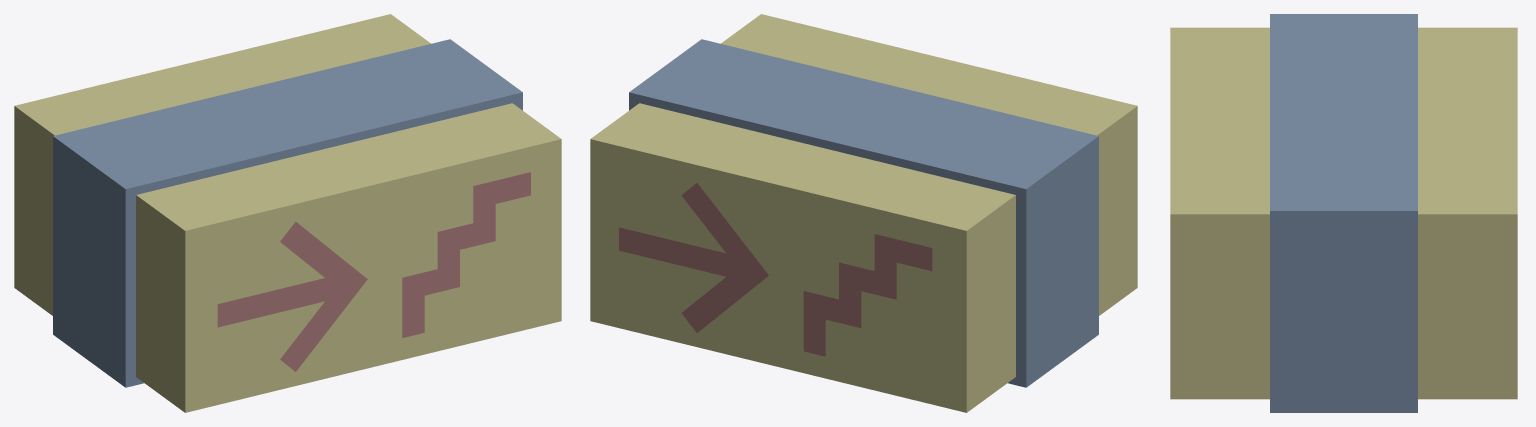
The model's file is SM_DoorLight_Stairs_00.fbx.
3 renders of one model, left to right at view 1: azimuth 30°, elevation 25°; view 2: azimuth 150°, elevation 25°; view 3: azimuth 270°, elevation 25°, orthographic.
Parts seen in each view (by area): view 1: DoorLight_00; view 2: DoorLight_00; view 3: DoorLight_00.
Boxes of the visible parts, left/top/right/bottom form: DoorLight_00: left=14, top=14, right=561, bottom=412; DoorLight_00: left=590, top=14, right=1137, bottom=412; DoorLight_00: left=1170, top=14, right=1517, bottom=412.
Size of the model in its own units: 37.88 by 18.09 by 28.84.
